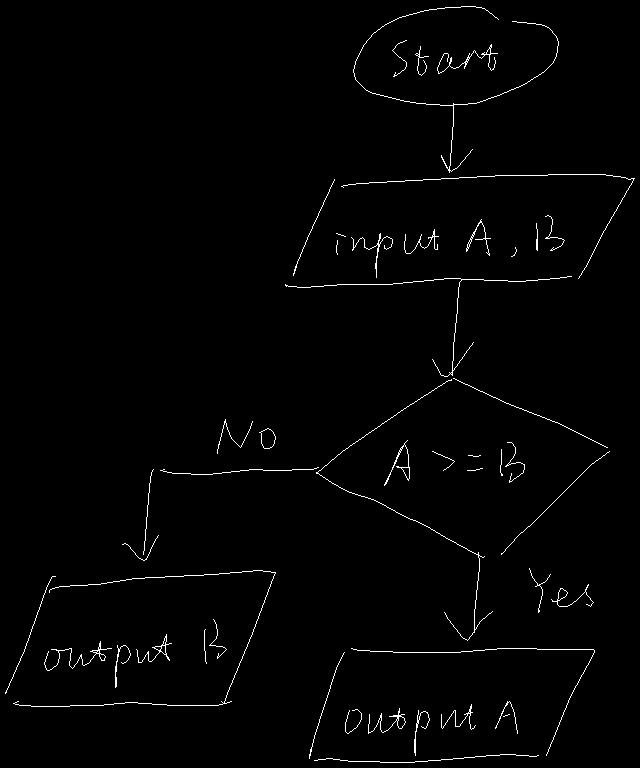arrow: (122, 467, 318, 560), (444, 552, 492, 640), (432, 280, 473, 376), (441, 103, 472, 172)
data: (285, 174, 634, 287), (5, 570, 275, 706), (309, 648, 594, 762)
decision: (316, 378, 609, 557)
terminator: (353, 6, 558, 105)
text: (336, 215, 564, 277), (44, 619, 226, 687), (345, 701, 517, 755), (384, 440, 524, 485), (392, 40, 497, 76), (529, 568, 593, 612), (217, 419, 275, 453)
